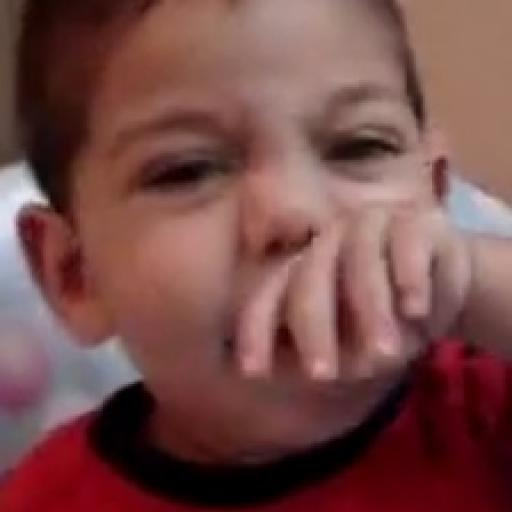Autism: (24, 6, 479, 512)
